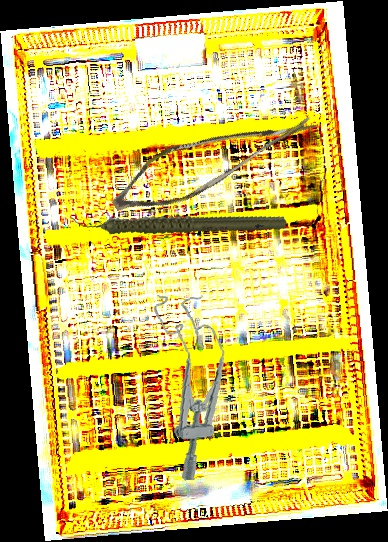Handpiece: (69, 168, 289, 275)
Micro Scissor: (103, 70, 320, 246)
Speculum: (151, 289, 236, 483)
